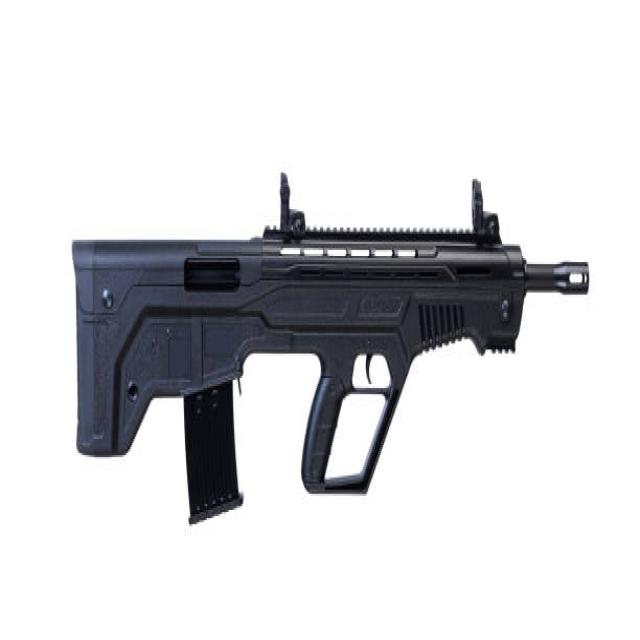rifle: (67, 159, 592, 537)
